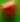red: (0, 0, 20, 22)
